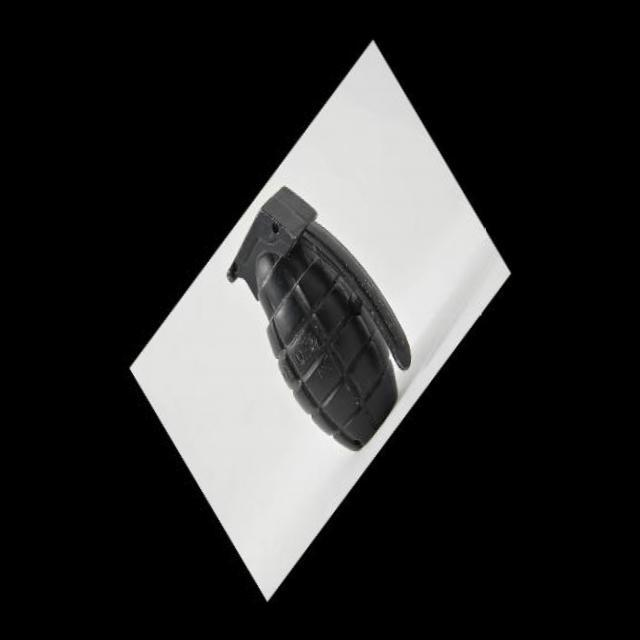grenade: (214, 176, 422, 458)
